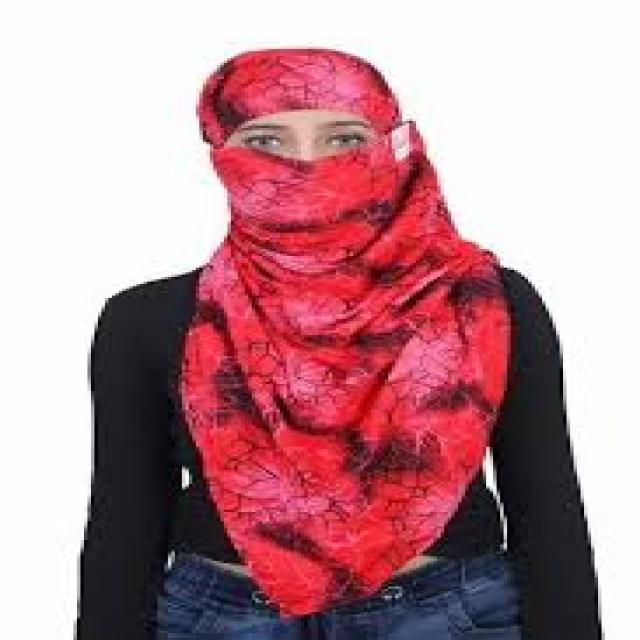person-with-mask: (38, 30, 640, 640)
